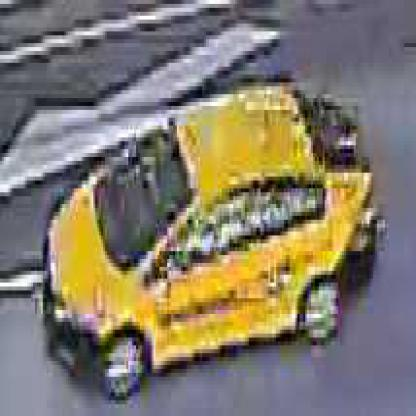car: (48, 95, 388, 378)
